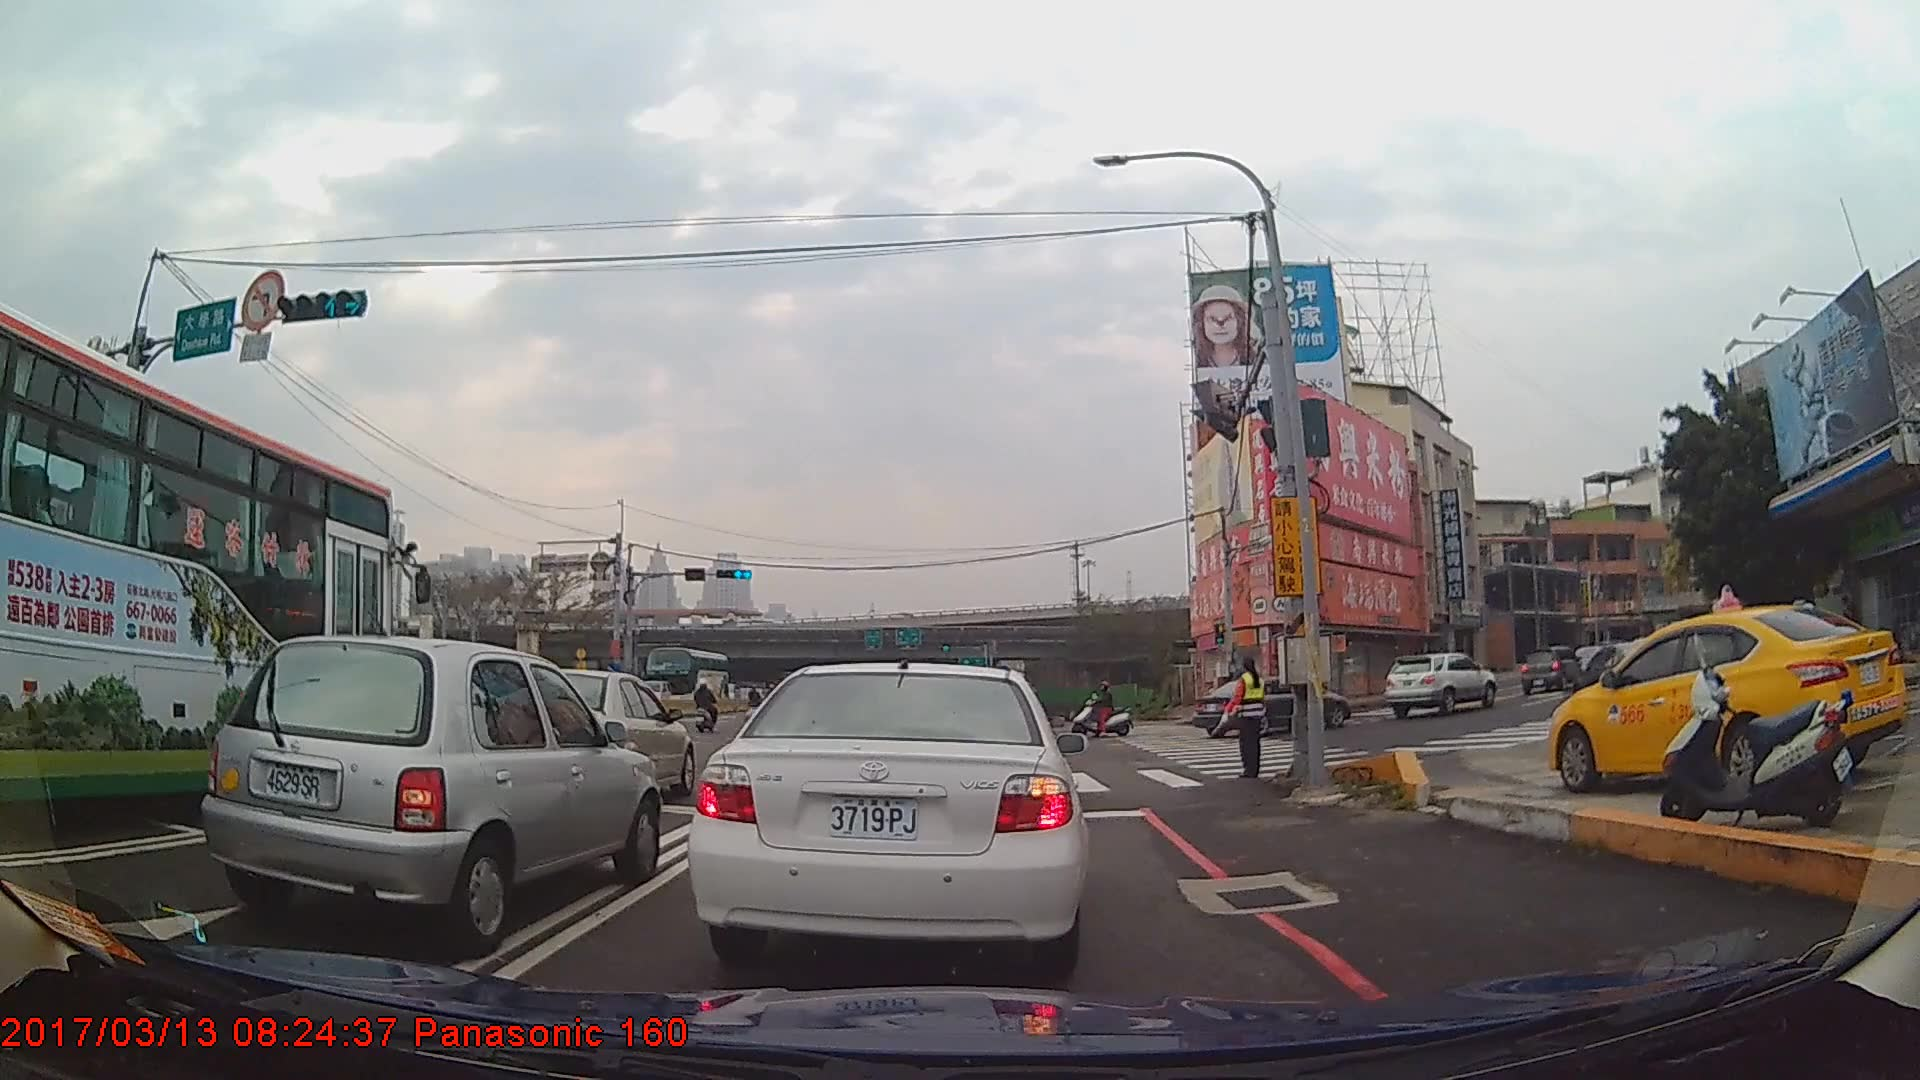pedestrian: (1220, 657, 1270, 778)
rider: (1073, 682, 1135, 740), (693, 678, 719, 736)
vehicle: (0, 297, 392, 841), (198, 634, 664, 951), (686, 659, 1090, 974), (1547, 603, 1904, 793), (492, 667, 696, 808), (1191, 675, 1349, 740), (1386, 651, 1495, 718), (645, 644, 729, 707), (1517, 647, 1583, 693)
